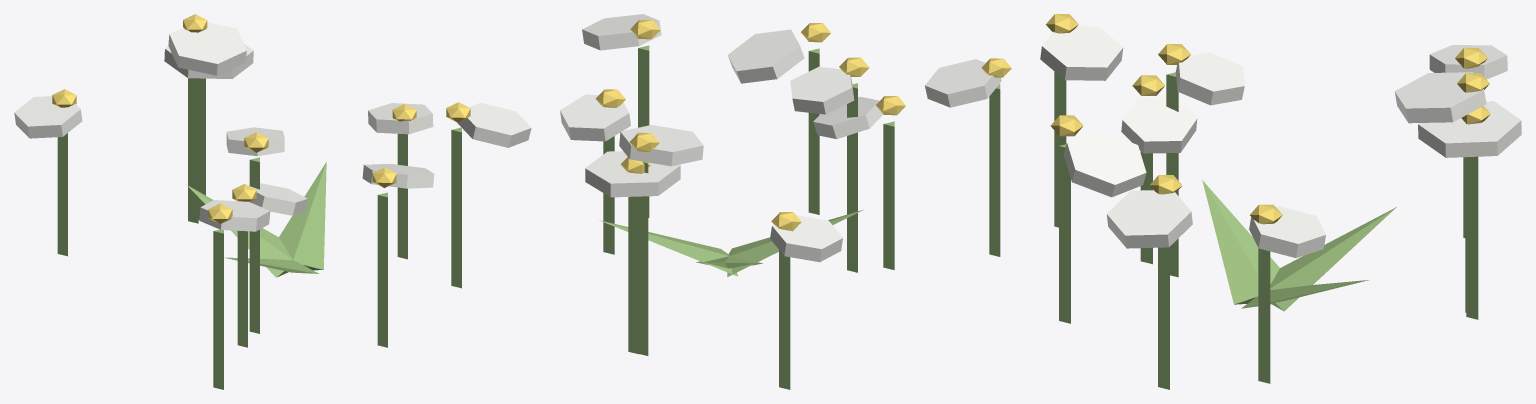
File: flor_branca_1.fbx
3 views of the same model, side by side, from view 1: azimuth 30°, elevation 25°; view 2: azimuth 150°, elevation 25°; view 3: azimuth 270°, elevation 25° (orthographic). The views are drawn at different scales.
Parts seen in each view (by area): view 1: flor_branca_1~Pétalas 1@petal, flor_branca_1~Folha 1@stem, flor_branca_1~Pétalas 6@petal, flor_branca_1~Pétalas 8@petal, flor_branca_1~Haste 7@stem, flor_branca_1~Haste 6@stem, flor_branca_1~Haste 2@stem, flor_branca_1~Haste 1@stem, flor_branca_1~Pétalas 7@petal, flor_branca_1~Pétalas 0@petal, flor_branca_1~Haste 5@stem, flor_branca_1~Haste 8@stem (+9 smaller); view 2: flor_branca_1~Pétalas 2@petal, flor_branca_1~Pétalas 4@petal, flor_branca_1~Pétalas 7@petal, flor_branca_1~Pétalas 5@petal, flor_branca_1~Pétalas 0@petal, flor_branca_1~Pétalas 1@petal, flor_branca_1~Pétalas 8@petal, flor_branca_1~Haste 7@stem, flor_branca_1~Haste 4@stem, flor_branca_1~Pétalas 6@petal, flor_branca_1~Haste 3@stem, flor_branca_1~Haste 5@stem (+17 smaller); view 3: flor_branca_1~Pétalas 2@petal, flor_branca_1~Pétalas 6@petal, flor_branca_1~Pétalas 4@petal, flor_branca_1~Pétalas 7@petal, flor_branca_1~Folha 2@stem, flor_branca_1~Pétalas 1@petal, flor_branca_1~Pétalas 3@petal, flor_branca_1~Pétalas 5@petal, flor_branca_1~Folha 0@stem, flor_branca_1~Pétalas 0@petal, flor_branca_1~Haste 4@stem, flor_branca_1~Haste 2@stem (+15 smaller).
Part boxes in pixels (x1=…): flor_branca_1~Pétalas 1@petal: x1=168, y1=22, x2=246, y2=75; flor_branca_1~Folha 1@stem: x1=279, y1=162, x2=326, y2=270; flor_branca_1~Pétalas 6@petal: x1=457, y1=103, x2=531, y2=147; flor_branca_1~Pétalas 8@petal: x1=14, y1=96, x2=82, y2=138; flor_branca_1~Haste 7@stem: x1=213, y1=229, x2=223, y2=389; flor_branca_1~Haste 6@stem: x1=451, y1=127, x2=461, y2=288; flor_branca_1~Haste 2@stem: x1=377, y1=192, x2=387, y2=347; flor_branca_1~Haste 1@stem: x1=188, y1=78, x2=198, y2=223; flor_branca_1~Pétalas 7@petal: x1=199, y1=200, x2=270, y2=231; flor_branca_1~Pétalas 0@petal: x1=368, y1=103, x2=433, y2=134; flor_branca_1~Haste 5@stem: x1=249, y1=157, x2=259, y2=333; flor_branca_1~Haste 8@stem: x1=57, y1=133, x2=67, y2=256; flor_branca_1~Pétalas 2@petal: x1=728, y1=29, x2=804, y2=83; flor_branca_1~Pétalas 4@petal: x1=585, y1=151, x2=680, y2=197; flor_branca_1~Pétalas 7@petal: x1=924, y1=59, x2=1001, y2=107; flor_branca_1~Pétalas 5@petal: x1=790, y1=66, x2=854, y2=114; flor_branca_1~Pétalas 0@petal: x1=560, y1=94, x2=630, y2=141; flor_branca_1~Pétalas 1@petal: x1=619, y1=125, x2=703, y2=166; flor_branca_1~Pétalas 8@petal: x1=770, y1=215, x2=842, y2=262; flor_branca_1~Haste 7@stem: x1=989, y1=84, x2=1000, y2=256; flor_branca_1~Haste 4@stem: x1=628, y1=196, x2=639, y2=354; flor_branca_1~Pétalas 6@petal: x1=582, y1=14, x2=661, y2=50; flor_branca_1~Haste 3@stem: x1=883, y1=121, x2=894, y2=269; flor_branca_1~Haste 5@stem: x1=847, y1=83, x2=857, y2=272; flor_branca_1~Pétalas 2@petal: x1=1063, y1=130, x2=1146, y2=197; flor_branca_1~Pétalas 6@petal: x1=1106, y1=190, x2=1192, y2=248; flor_branca_1~Pétalas 4@petal: x1=1418, y1=101, x2=1521, y2=157; flor_branca_1~Pétalas 7@petal: x1=1040, y1=26, x2=1123, y2=80; flor_branca_1~Folha 2@stem: x1=1202, y1=180, x2=1279, y2=304; flor_branca_1~Pétalas 1@petal: x1=1394, y1=72, x2=1486, y2=123; flor_branca_1~Pétalas 3@petal: x1=1121, y1=97, x2=1197, y2=153; flor_branca_1~Pétalas 5@petal: x1=1175, y1=52, x2=1244, y2=105; flor_branca_1~Folha 0@stem: x1=1270, y1=207, x2=1396, y2=311; flor_branca_1~Pétalas 0@petal: x1=1249, y1=206, x2=1325, y2=257; flor_branca_1~Haste 4@stem: x1=1466, y1=156, x2=1478, y2=319; flor_branca_1~Haste 2@stem: x1=1059, y1=144, x2=1070, y2=323.
Size of the model in its own units: 0.6653 by 0.3546 by 0.6518.
